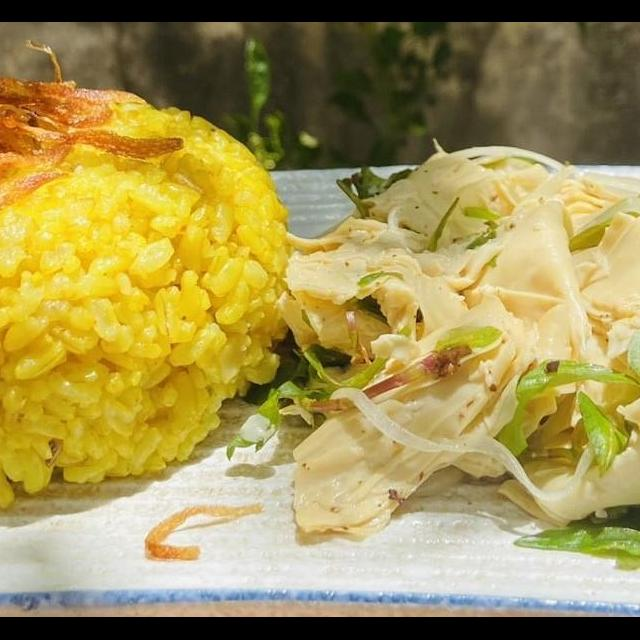com: (0, 74, 306, 538)
rau ram: (217, 313, 514, 467), (507, 377, 640, 614), (559, 163, 640, 261)
thit ga: (269, 146, 640, 544)
